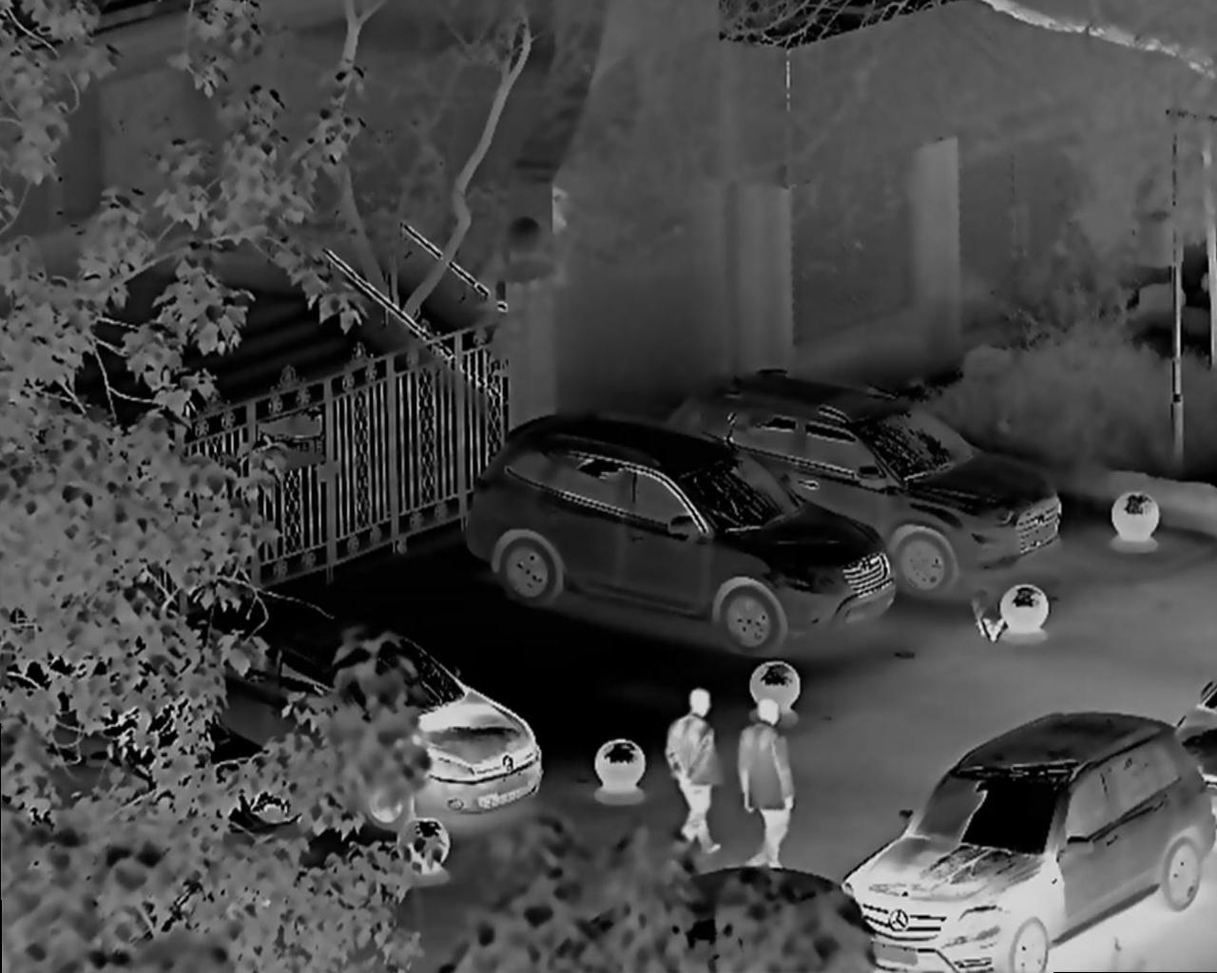person: (734, 692, 806, 867), (669, 683, 722, 859)
